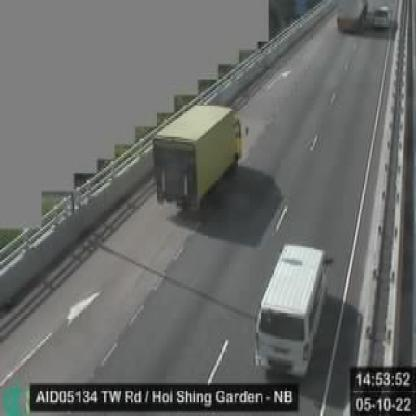Car: (256, 245, 328, 376)
Truck: (155, 104, 243, 215)
